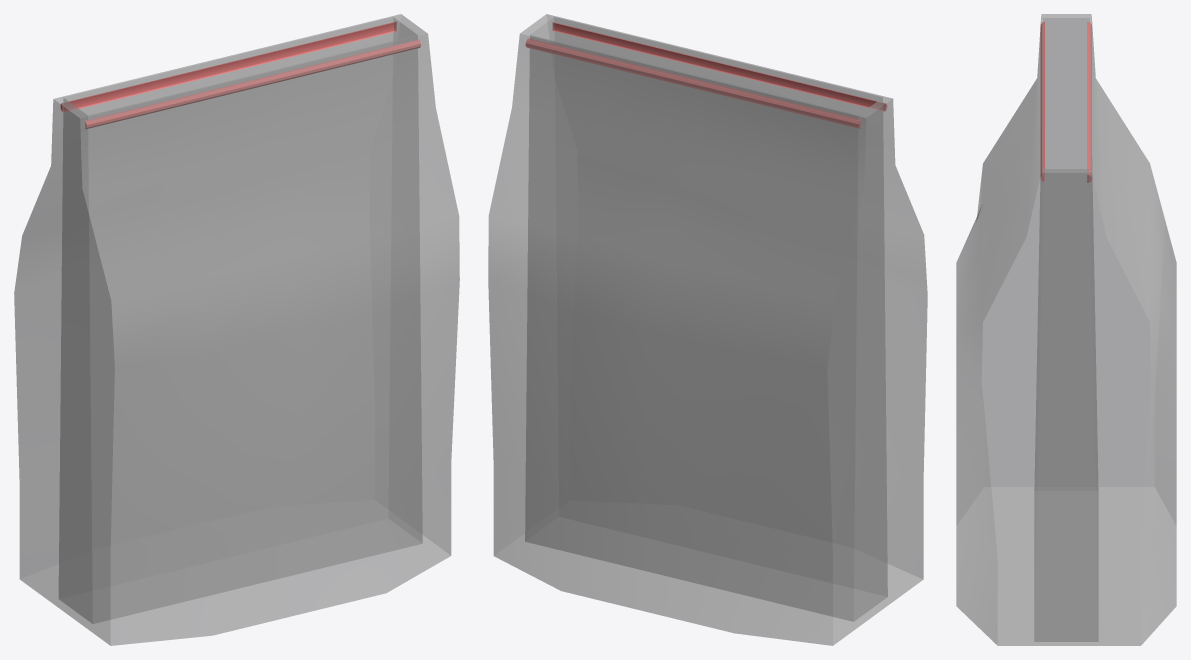
File: packet.fbx
3 renders of one model, left to right at view 1: azimuth 30°, elevation 25°; view 2: azimuth 150°, elevation 25°; view 3: azimuth 270°, elevation 25°, orthographic. The views are drawn at different scales.
Parts seen in each view (by area): view 1: pCube3, pCylinder2, pCylinder1; view 2: pCube3, pCylinder2, pCylinder1; view 3: pCube3, pCylinder2, pCylinder1.
Part boxes in pixels (x1,y1,x2,y2): pCube3: (14, 14, 459, 645); pCylinder2: (60, 22, 396, 112); pCylinder1: (85, 39, 420, 129); pCube3: (488, 14, 927, 645); pCylinder2: (525, 38, 860, 128); pCylinder1: (552, 22, 887, 111); pCube3: (956, 14, 1176, 645); pCylinder2: (1087, 22, 1091, 182); pCylinder1: (1040, 22, 1044, 181).
Bounding box in the file's own units: 26.75 × 37.11 × 15.67.
